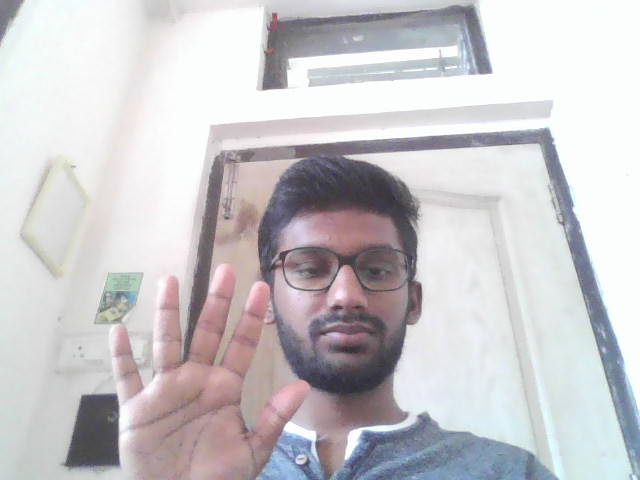Hello: (76, 263, 316, 480)
